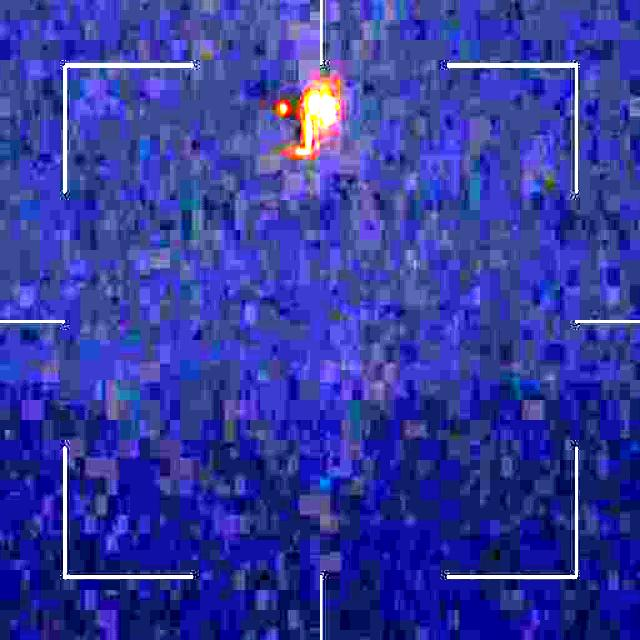bird: (260, 82, 336, 160)
